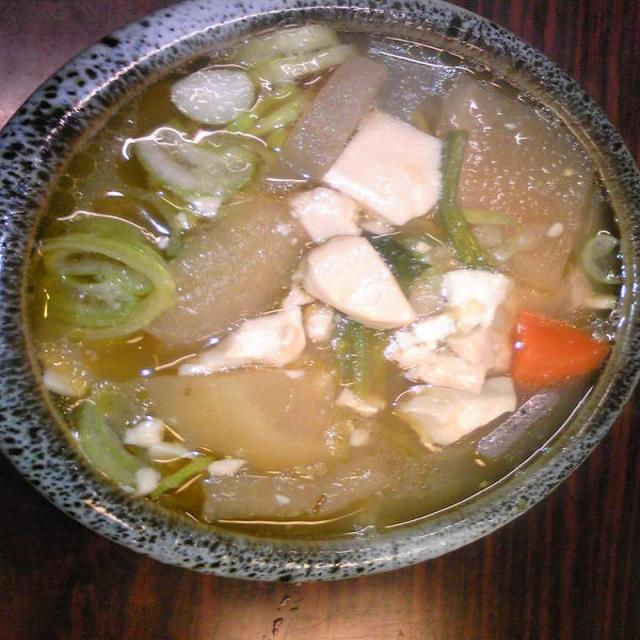蔬菜料理: (3, 0, 640, 480)
